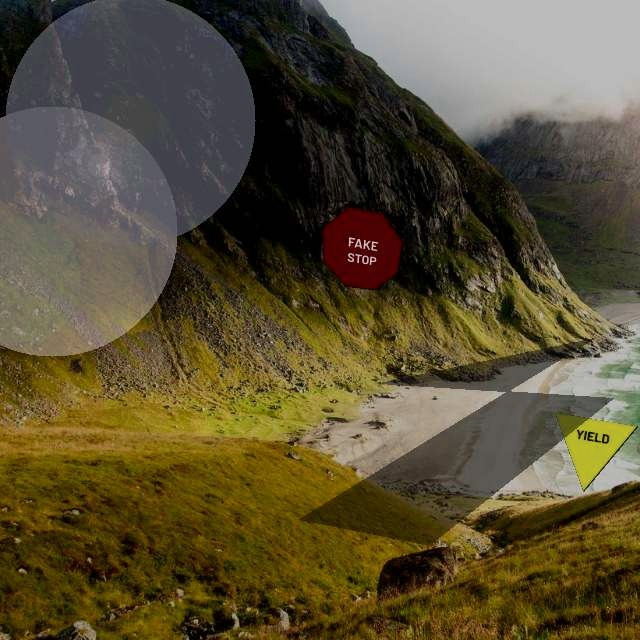FAKE_STOP: (322, 206, 403, 290)
YIELD: (554, 412, 638, 492)
